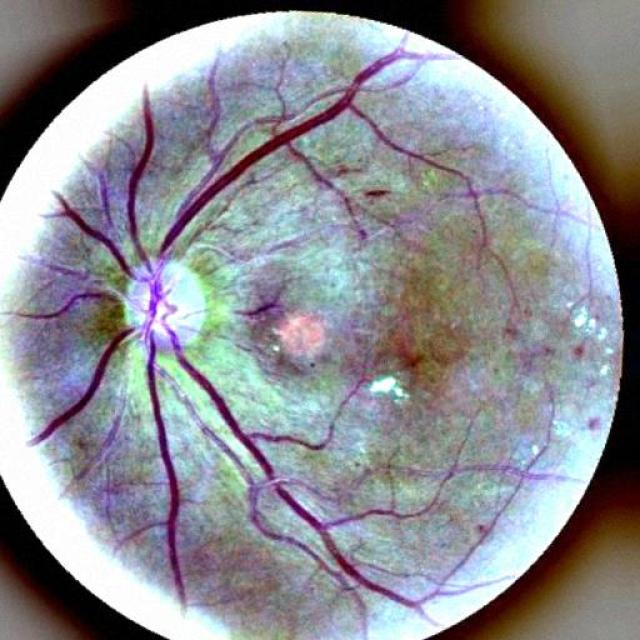Macula: (276, 308, 336, 367)
Nerves: (169, 112, 337, 248), (185, 360, 278, 472), (141, 368, 188, 543), (44, 339, 121, 435), (119, 123, 164, 239), (66, 213, 127, 262)
Optic Disk: (114, 239, 216, 361)
